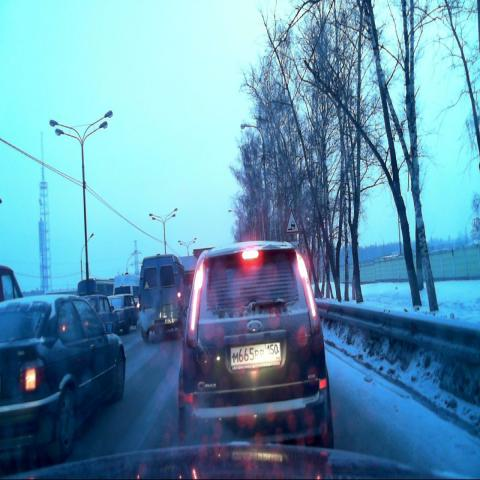1_19: (284, 210, 298, 235)
